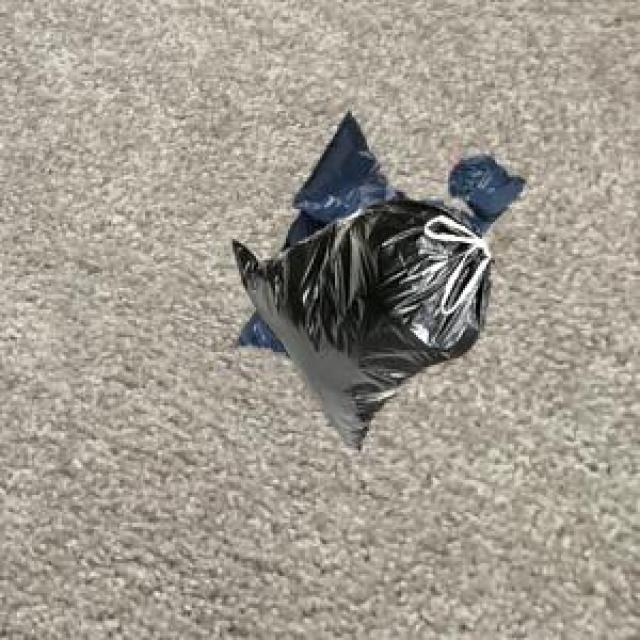waste: (232, 112, 525, 448)
